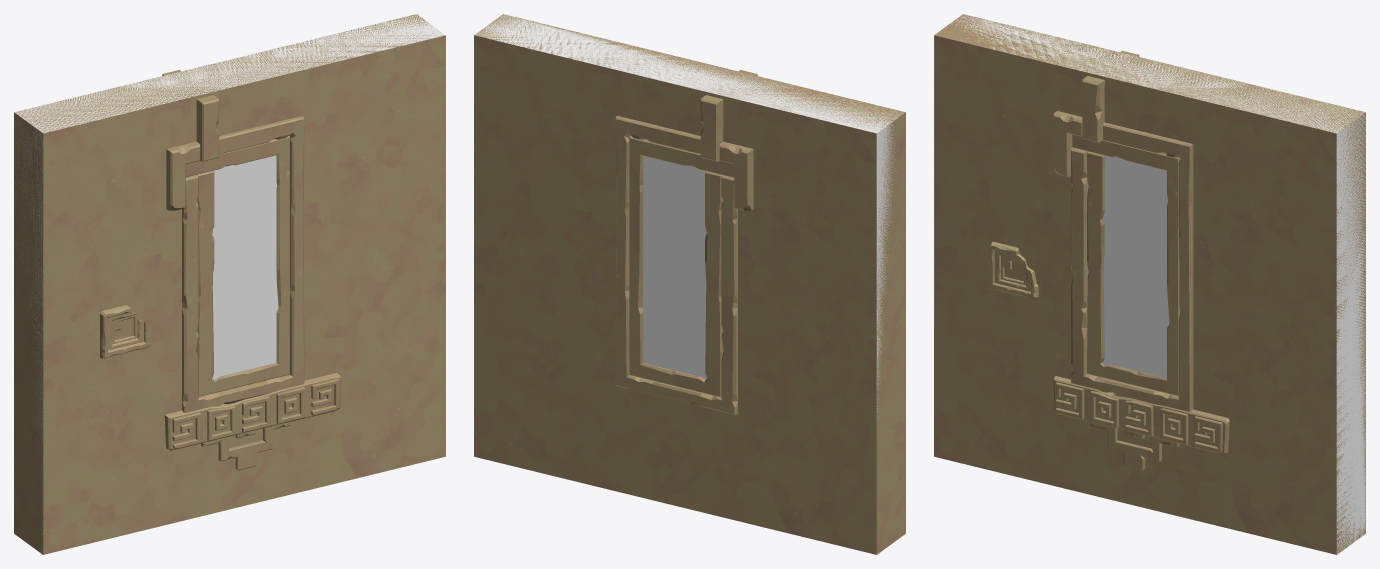
Rendered from Window_Intact.fbx.
3 views of the same model, side by side, from view 1: azimuth 30°, elevation 25°; view 2: azimuth 150°, elevation 25°; view 3: azimuth 330°, elevation 25° (orthographic).
Parts seen in each view (by area): view 1: Window, Window_COL, W_Frame, W_Detail_Rectangle, W_Detail_Square, W_Detail_Trim; view 2: Window, Window_COL, W_Frame; view 3: Window, Window_COL, W_Frame, W_Detail_Rectangle, W_Detail_Square, W_Detail_Trim.
Boxes of the visible parts, x1,y1,x2,y2 form: Window: [14, 14, 445, 554]; Window_COL: [14, 14, 445, 551]; W_Frame: [162, 70, 304, 412]; W_Detail_Rectangle: [164, 372, 341, 450]; W_Detail_Square: [100, 305, 149, 358]; W_Detail_Trim: [201, 402, 290, 470]; Window: [474, 14, 905, 554]; Window_COL: [475, 14, 903, 420]; W_Frame: [615, 70, 757, 414]; Window: [934, 14, 1365, 554]; Window_COL: [934, 14, 1365, 553]; W_Frame: [1053, 50, 1193, 411]; W_Detail_Rectangle: [1053, 376, 1229, 453]; W_Detail_Square: [989, 241, 1038, 299]; W_Detail_Trim: [1090, 394, 1179, 470].
Size of the model in its own units: 400 by 400 by 70.81.
